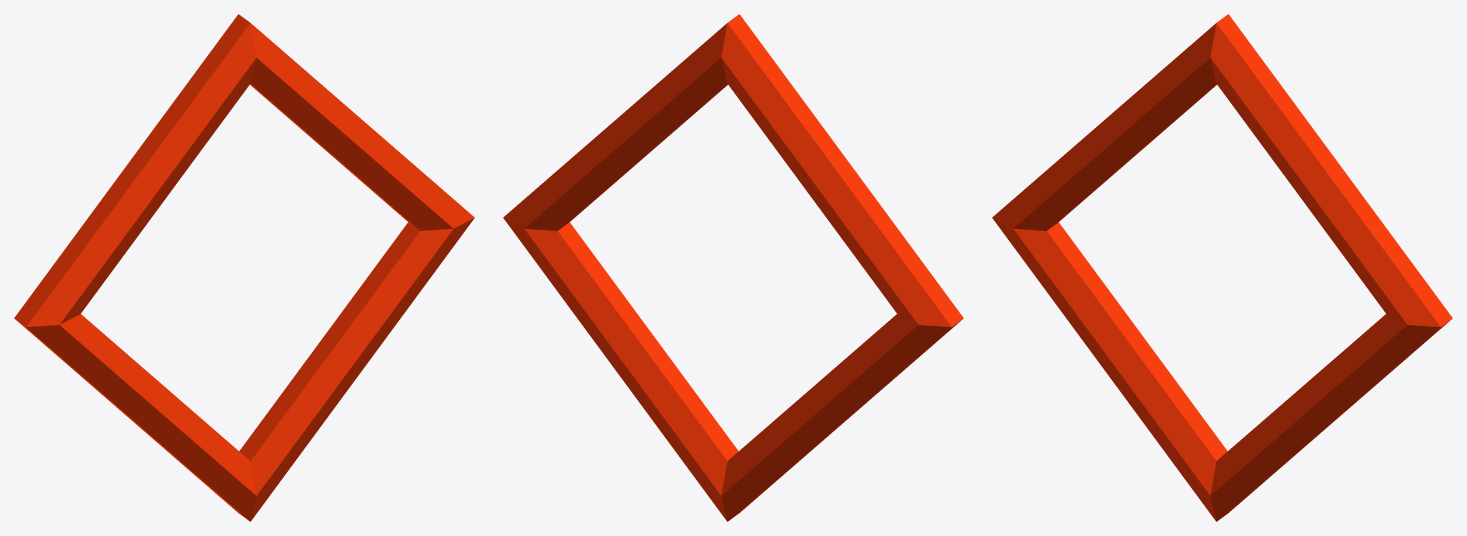
File: Shield_Frame_01_Losange_04.fbx
The picture shows the model from 3 angles, left to right: view 1: azimuth 30°, elevation 25°; view 2: azimuth 150°, elevation 25°; view 3: azimuth 330°, elevation 25°; orthographic projection.
Parts seen in each view (by area): view 1: Shield_Frame_01_Losange_04; view 2: Shield_Frame_01_Losange_04; view 3: Shield_Frame_01_Losange_04.
Boxes of the visible parts, left/top/right/bottom form: Shield_Frame_01_Losange_04: left=14, top=14, right=474, bottom=521; Shield_Frame_01_Losange_04: left=503, top=14, right=963, bottom=521; Shield_Frame_01_Losange_04: left=992, top=14, right=1452, bottom=521.
Bounding box in the file's own units: 1.07 × 1.14 × 0.1.
